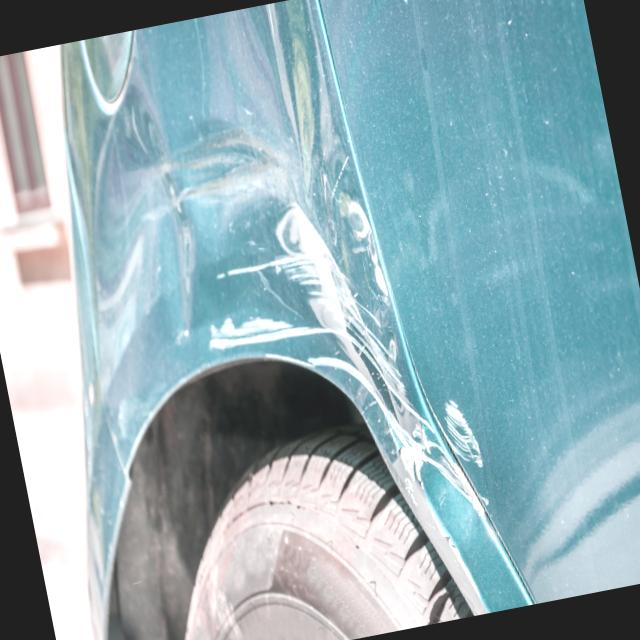Rayure: (185, 174, 499, 565)
